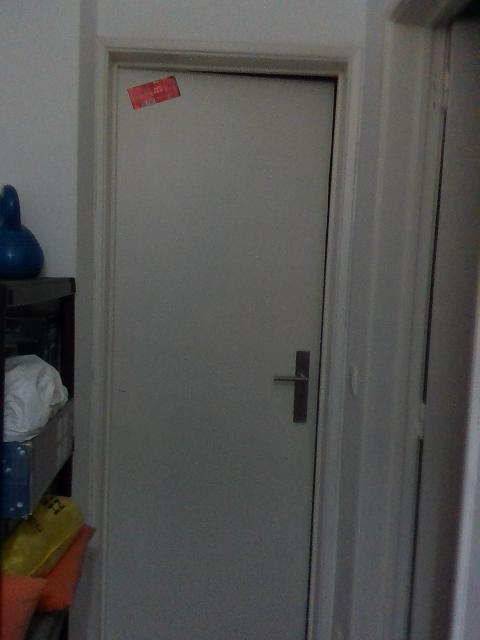door: (115, 68, 333, 640)
